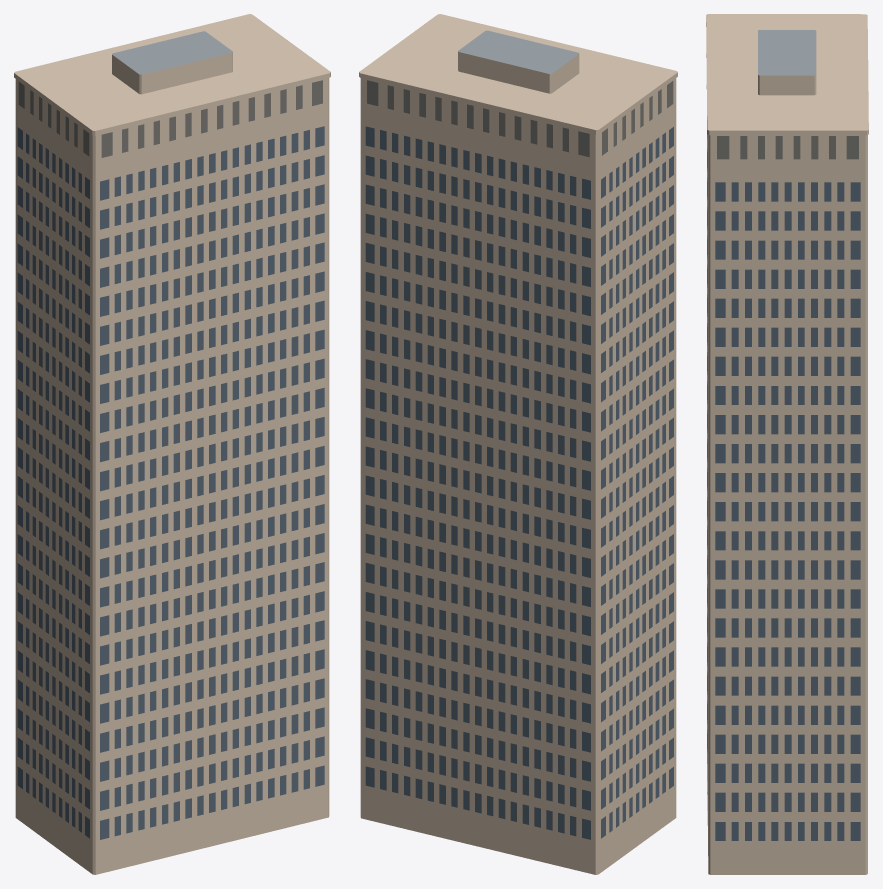
File: msp-33-south-sixth.glb
3 renders of one model, left to right at view 1: azimuth 30°, elevation 25°; view 2: azimuth 150°, elevation 25°; view 3: azimuth 270°, elevation 25°, orthographic.
Parts seen in each view (by area): view 1: 33 South Sixth; view 2: 33 South Sixth; view 3: 33 South Sixth.
Boxes of the visible parts, x1,y1,x2,y2 form: 33 South Sixth: (14, 14, 330, 874); 33 South Sixth: (359, 14, 677, 874); 33 South Sixth: (706, 14, 868, 874).
Bounding box in the file's own units: 66.3 × 202 × 39.1.
